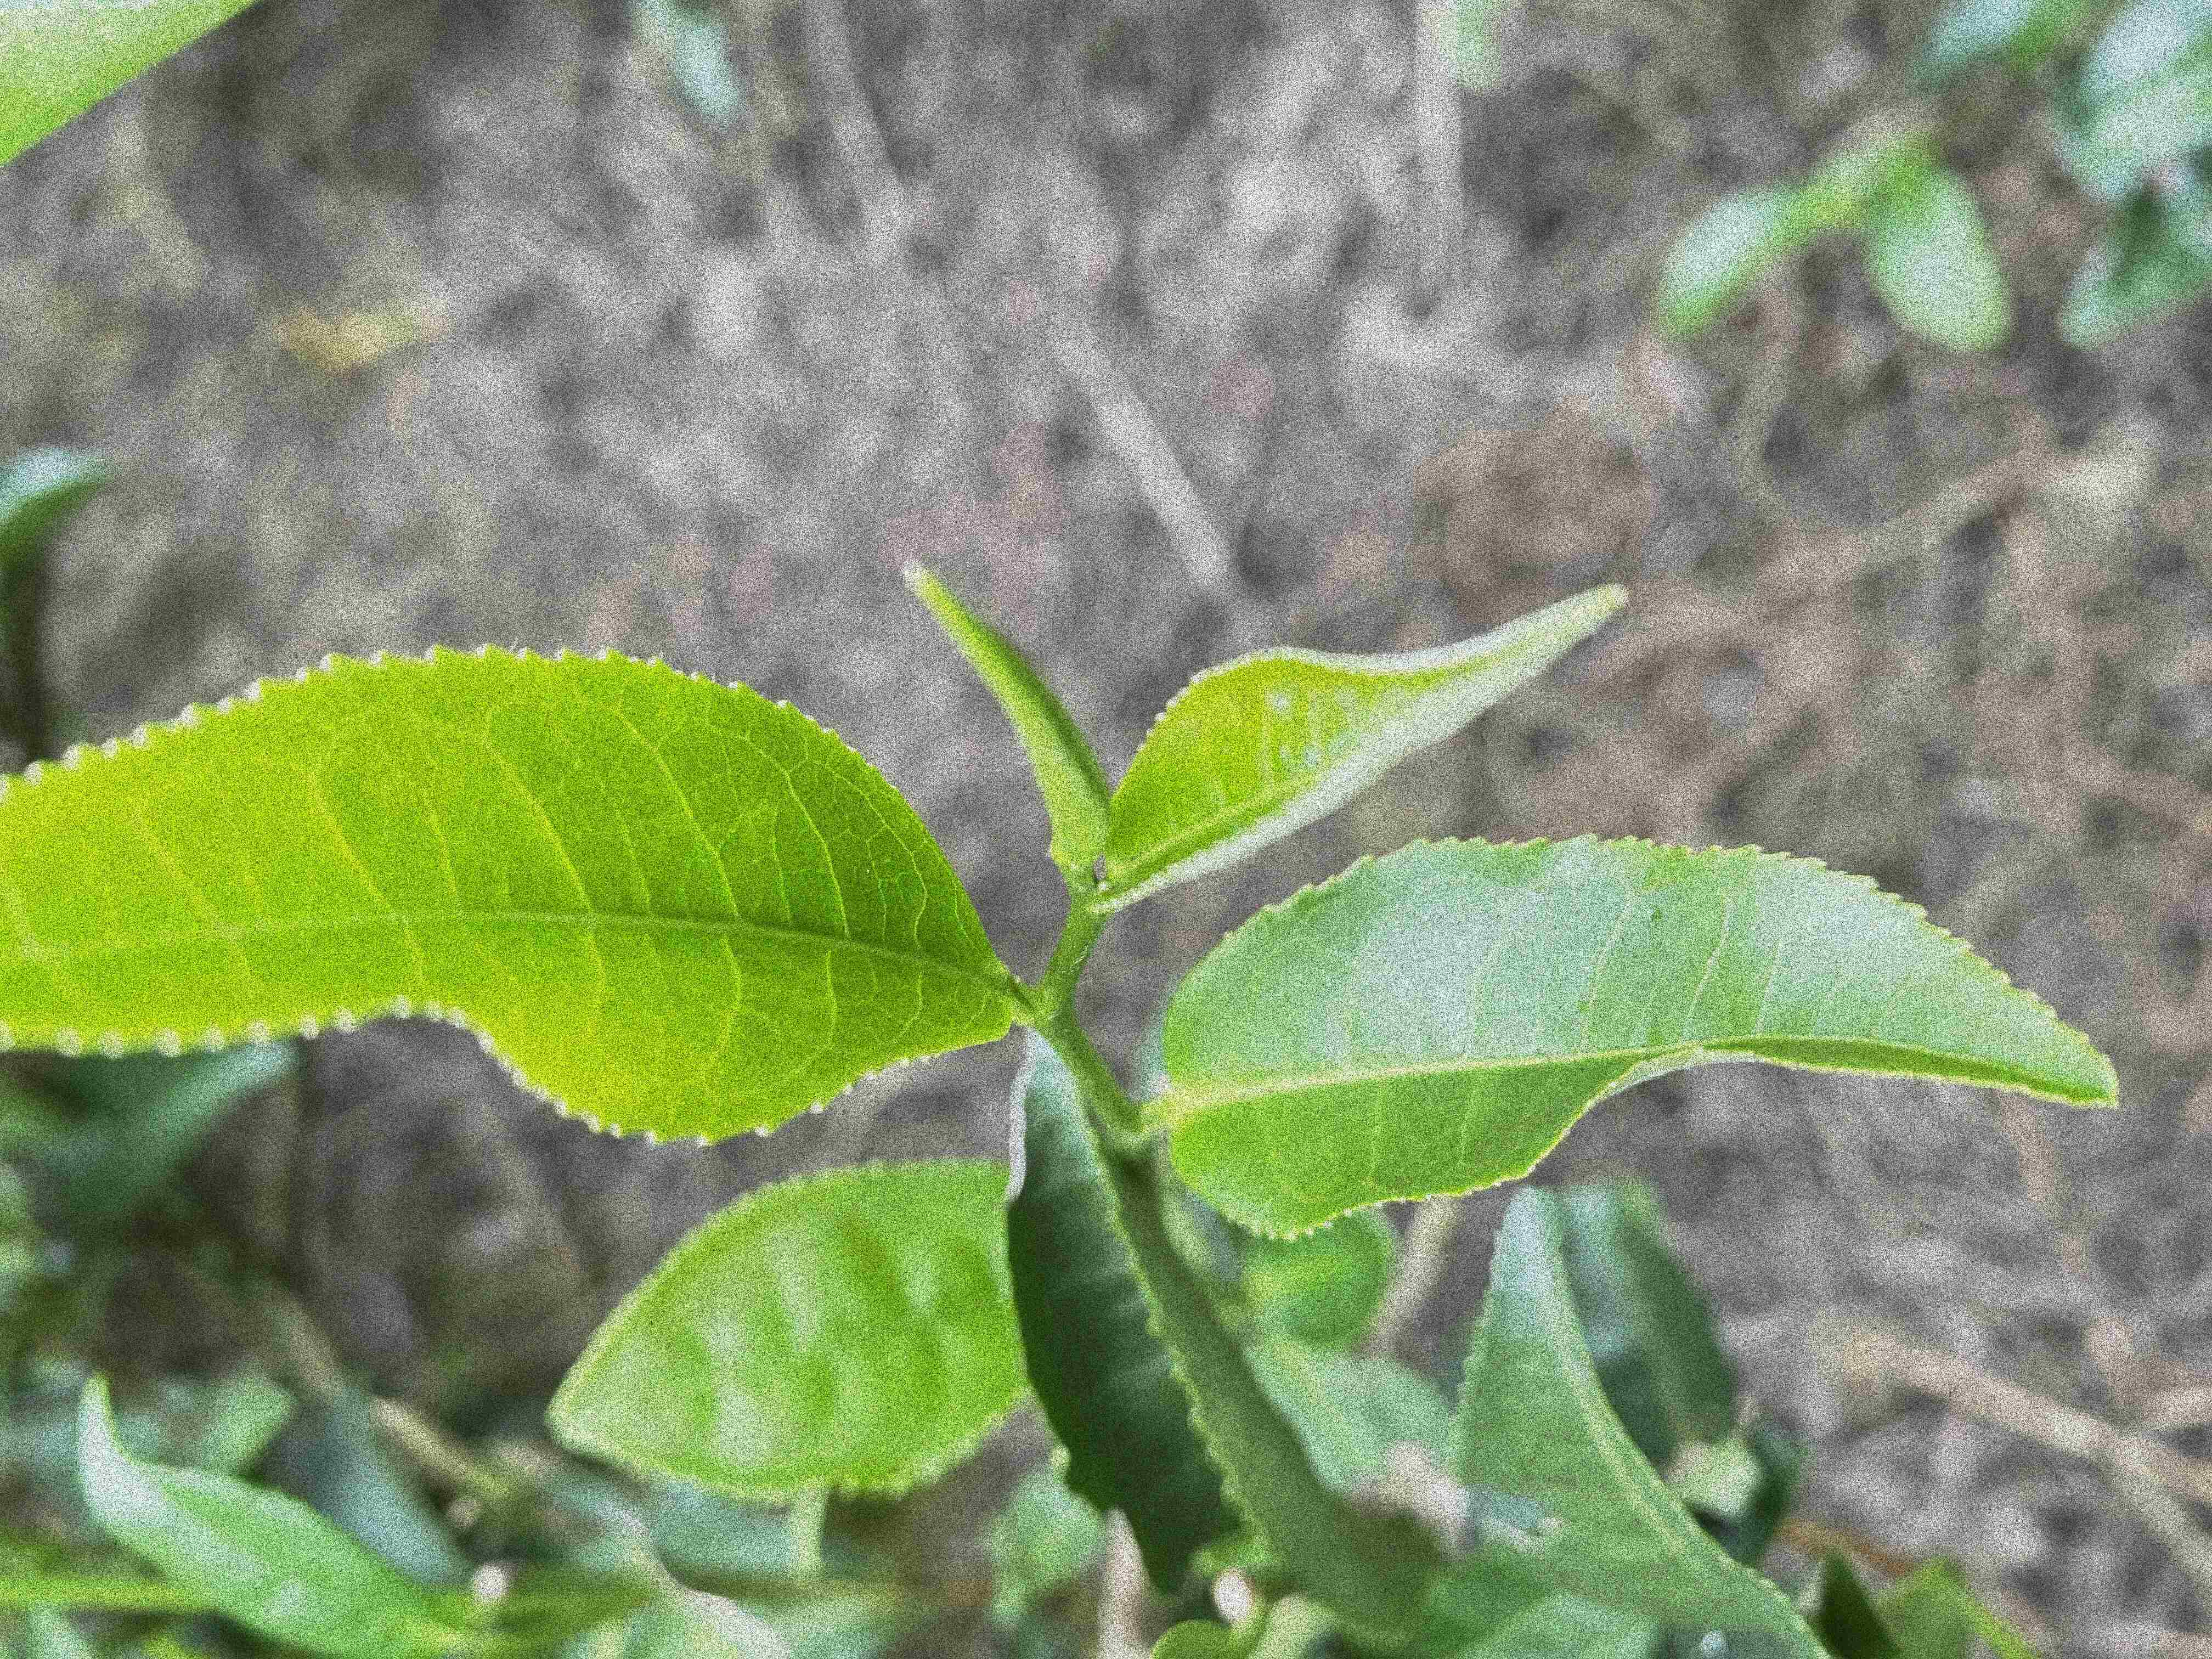healthy: (0, 641, 1014, 1154), (1157, 828, 2123, 1241), (1089, 580, 1627, 915)
